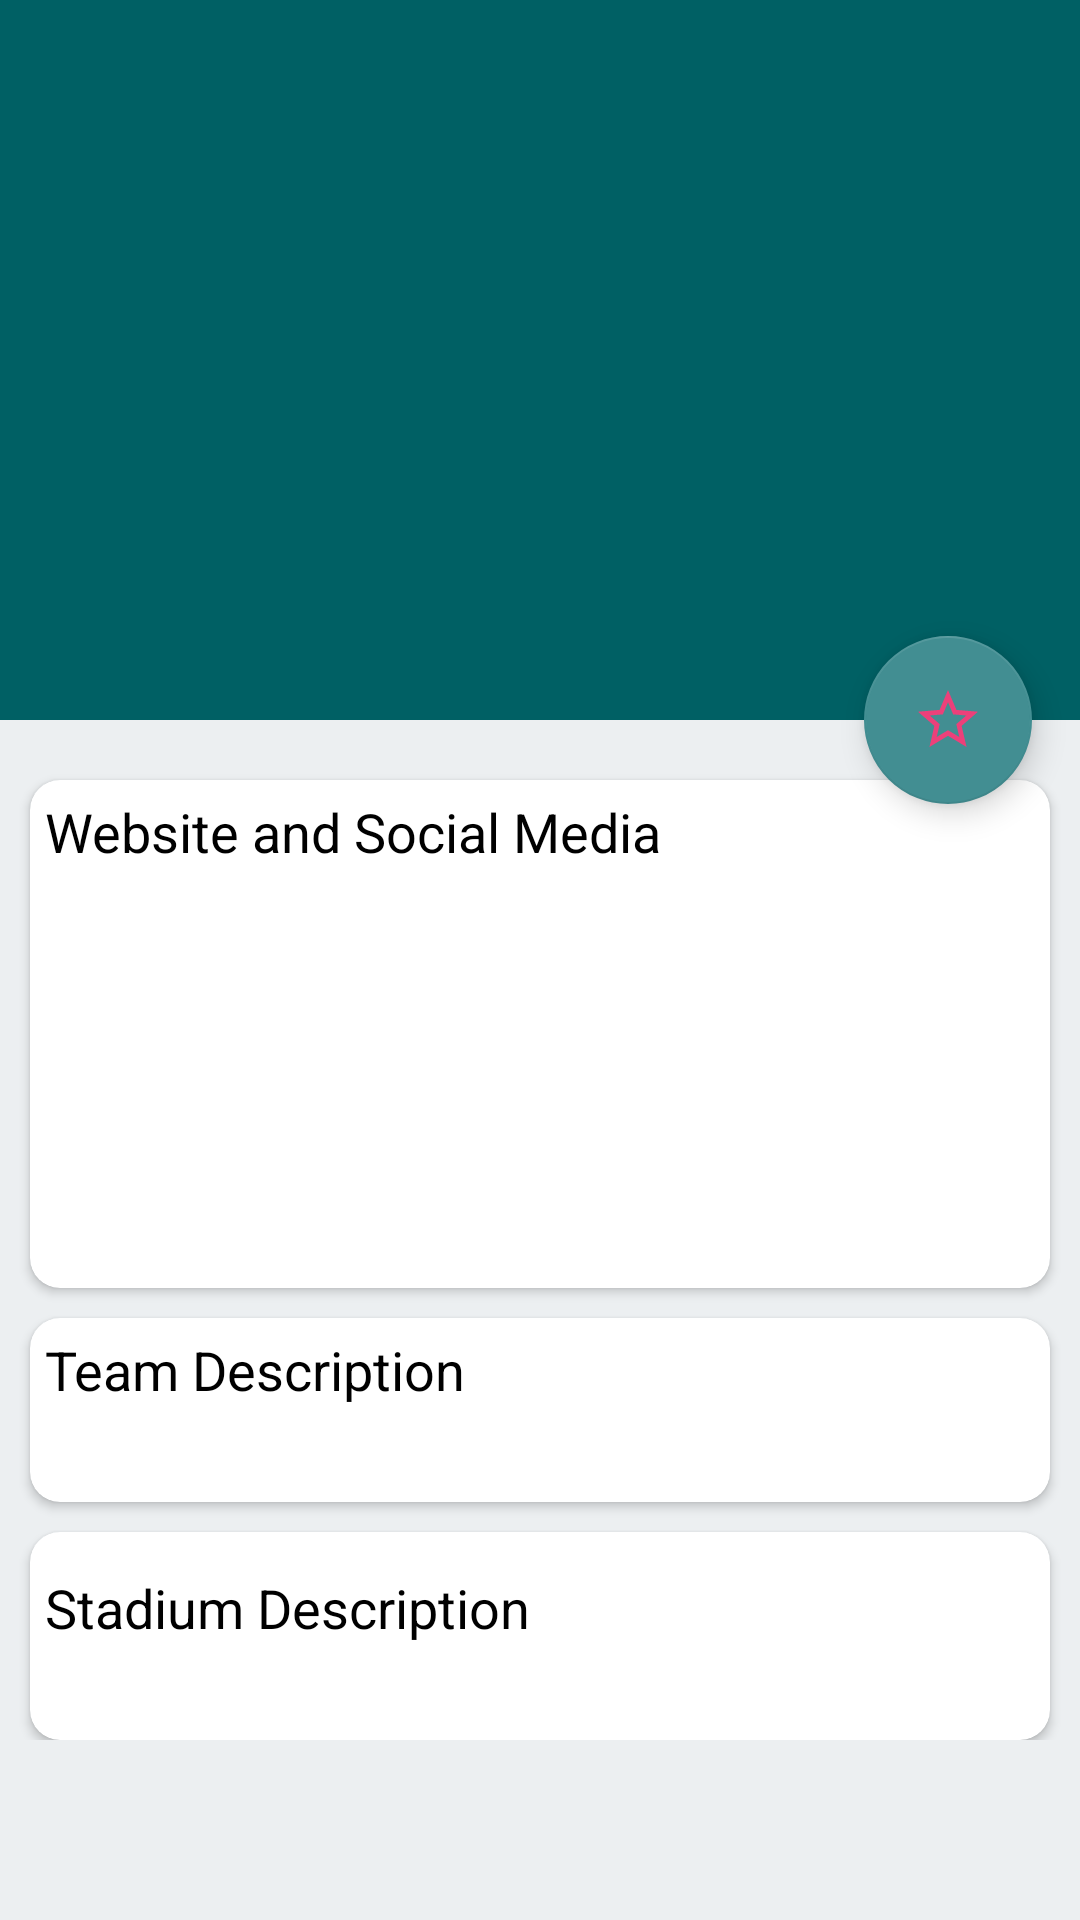

Where to tap for icons on this 1080w x 1920h app screen, as (x,y):
add to favorites: (948,720)
